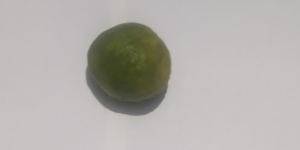BAD: (87, 22, 171, 104)
